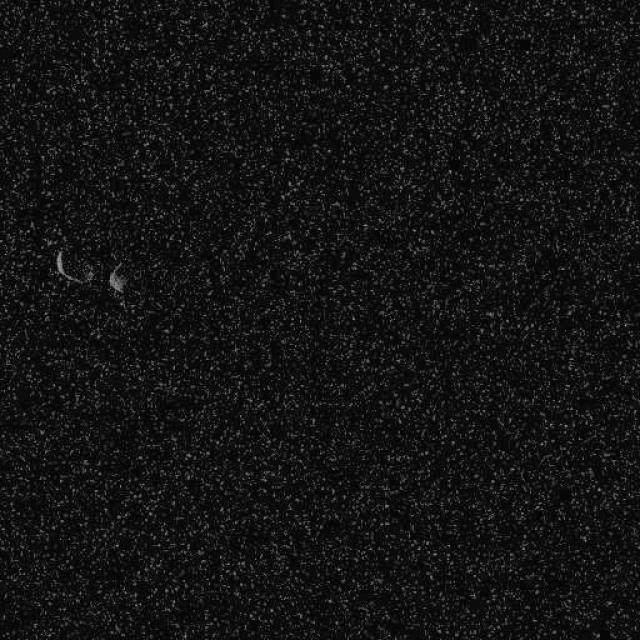D2: (54, 246, 95, 285), (106, 260, 128, 294)
